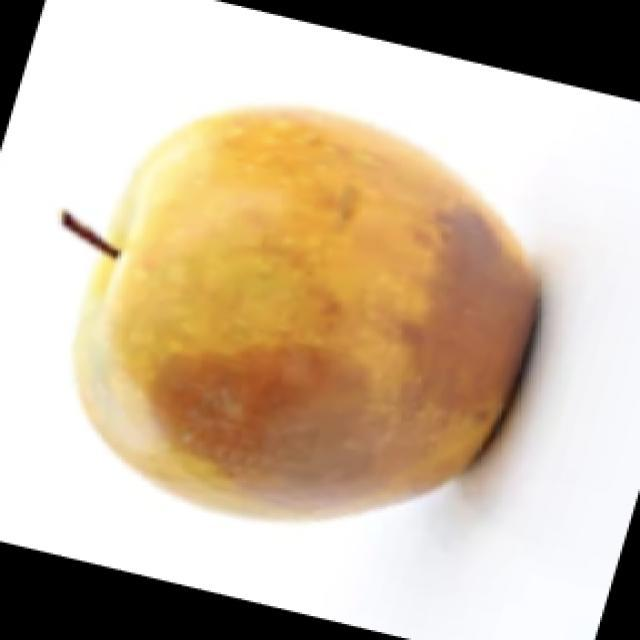Rotten: (67, 90, 543, 527)
